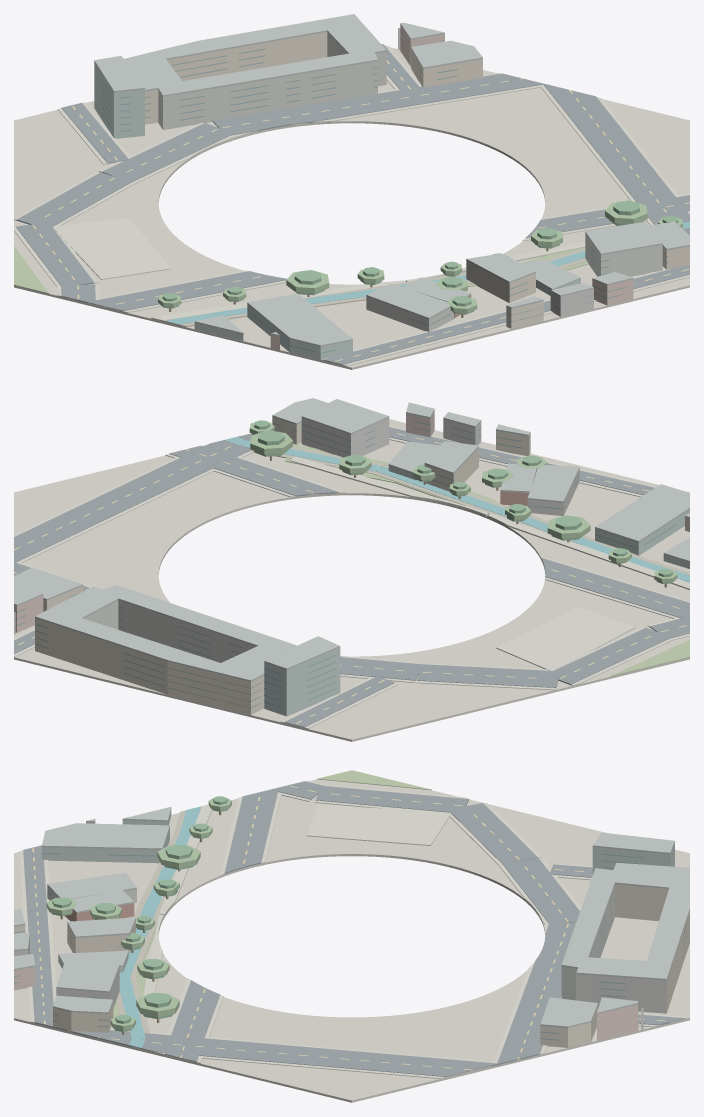
Rendered from surround-P02.glb.
The picture shows the model from 3 angles, top to bottom: view 1: azimuth 30°, elevation 25°; view 2: azimuth 150°, elevation 25°; view 3: azimuth 270°, elevation 25°; orthographic projection.
Visible parts, largest first — view 1: P02_neutral, P02_road, P02_roof, P02_pave, P02_stone, P02_cream, P02_mint, P02_tree2, P02_tree, P02_glass, P02_pink, P02_water (+3 smaller); view 2: P02_neutral, P02_roof, P02_road, P02_pave, P02_cream, P02_stone, P02_mint, P02_tree2, P02_tree, P02_glass, P02_water, P02_bank (+3 smaller); view 3: P02_neutral, P02_road, P02_roof, P02_pave, P02_cream, P02_stone, P02_mint, P02_tree2, P02_tree, P02_water, P02_pink, P02_bank (+3 smaller).
Boxes of the visible parts, <box> form: P02_neutral: <box>14,47,689,369</box>; P02_road: <box>16,44,689,364</box>; P02_roof: <box>94,14,689,346</box>; P02_pave: <box>14,45,689,366</box>; P02_stone: <box>158,30,662,331</box>; P02_cream: <box>145,32,689,328</box>; P02_mint: <box>94,62,580,359</box>; P02_tree2: <box>158,202,682,312</box>; P02_tree: <box>160,200,678,314</box>; P02_glass: <box>102,31,668,352</box>; P02_pink: <box>270,25,633,349</box>; P02_water: <box>165,221,689,324</box>; P02_neutral: <box>14,419,689,741</box>; P02_roof: <box>14,398,689,681</box>; P02_road: <box>14,427,689,727</box>; P02_pave: <box>14,425,689,728</box>; P02_cream: <box>35,417,530,714</box>; P02_stone: <box>14,418,579,662</box>; P02_mint: <box>264,466,689,716</box>; P02_tree2: <box>249,422,677,582</box>; P02_tree: <box>252,420,675,583</box>; P02_glass: <box>14,417,676,709</box>; P02_water: <box>225,437,689,582</box>; P02_bank: <box>250,447,689,582</box>; P02_neutral: <box>14,779,689,1102</box>; P02_road: <box>23,781,685,1076</box>; P02_roof: <box>14,807,689,1027</box>; P02_pave: <box>19,780,689,1078</box>; P02_cream: <box>14,884,689,1047</box>; P02_stone: <box>14,885,665,1029</box>; P02_mint: <box>41,809,674,972</box>; P02_tree2: <box>46,797,231,1030</box>; P02_tree: <box>51,796,228,1031</box>; P02_water: <box>119,806,200,1047</box>; P02_pink: <box>14,821,638,1040</box>; P02_bank: <box>116,806,201,1033</box>.
Size of the model in its own units: 16.17 by 1.15 by 14.
